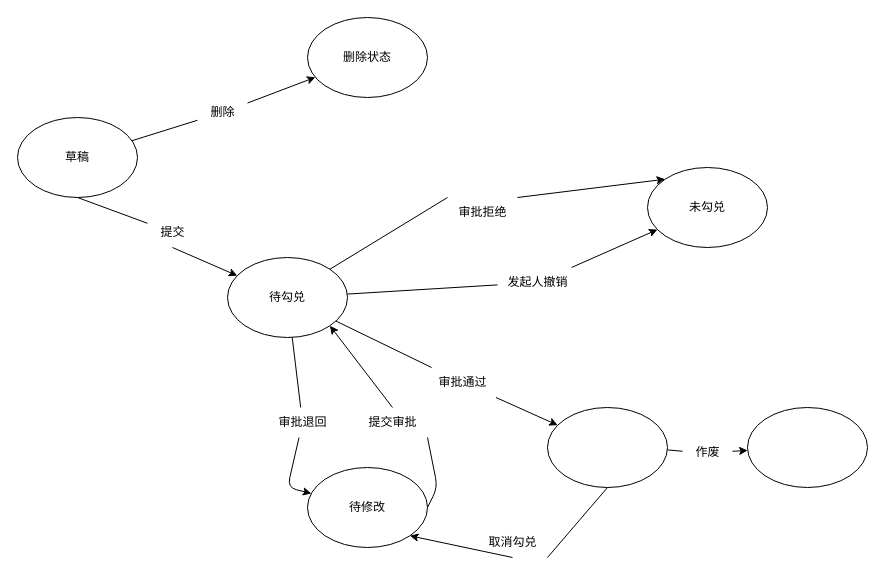
This 885x583 diagram has some shape labels left out. The shapes that lost their labels are listed below. From the top down, each one's box as (x1, y1, x2, y2) in pixels, then its label:
(546, 406, 668, 488): 已勾兑
(746, 406, 868, 488): 已作废
